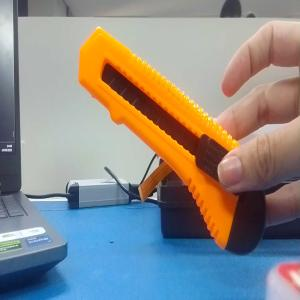estilete: (83, 27, 246, 249)
